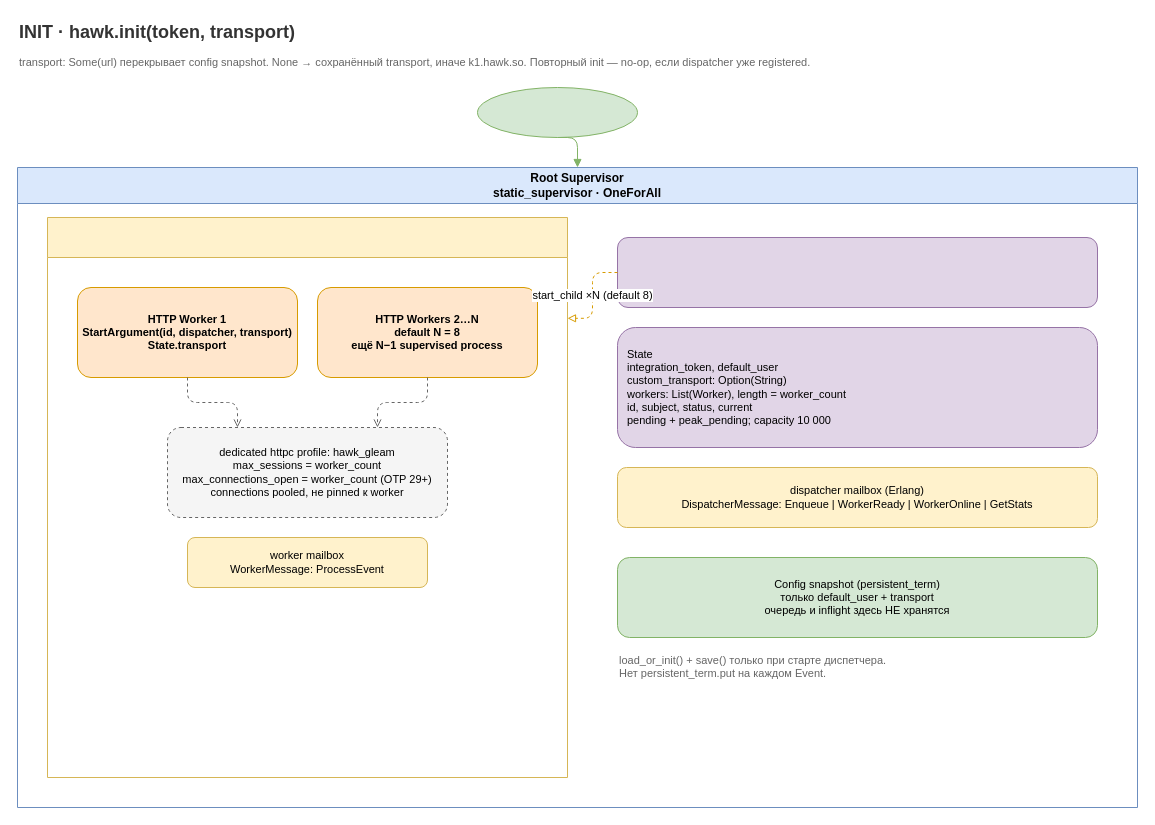
Image size: 1155x825. Some labels were removed from this diagram. Each missing label, with the box of its shape:
Dispatcher named hawk_gleam_dispatcher: (616, 236, 1098, 308)
Factory Supervisor simple_one_for_one · named: (46, 216, 568, 778)
hawk.init: (476, 86, 638, 138)
